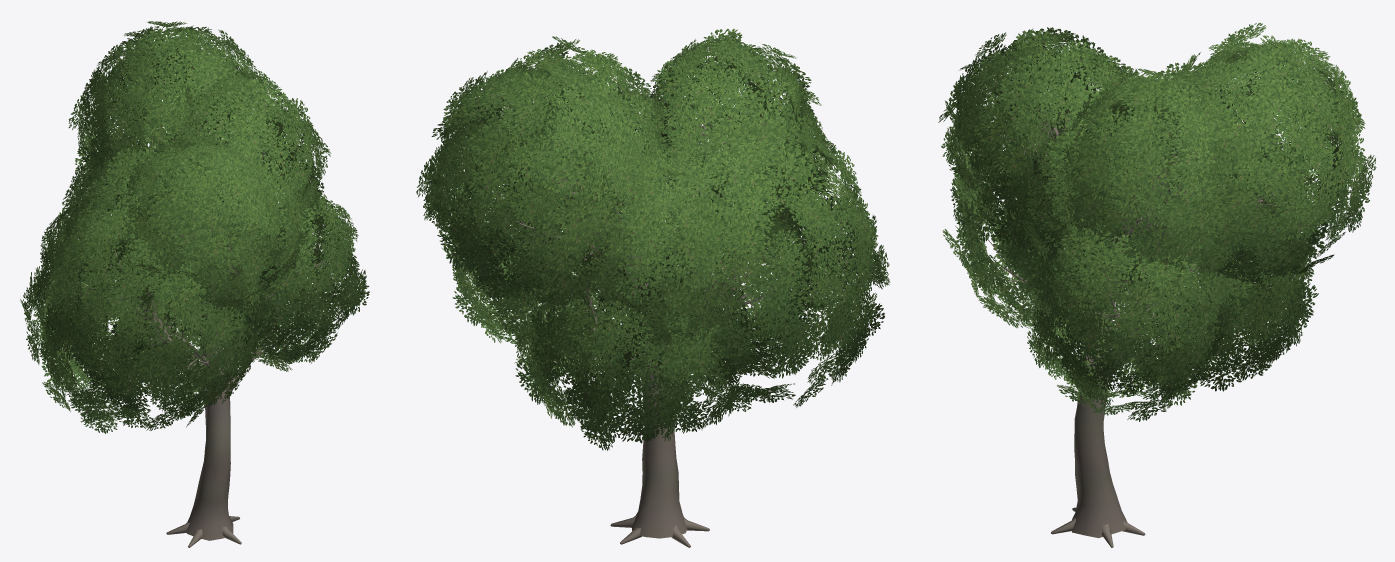
Rendered from eco_tree_forest_tall_a_LOD0.glb.
The picture shows the model from 3 angles, left to right: view 1: azimuth 30°, elevation 25°; view 2: azimuth 150°, elevation 25°; view 3: azimuth 270°, elevation 25°; orthographic projection. The views are drawn at different scales.
Parts seen in each view (by area): view 1: eco_tree_forest_tall_a_LOD0; view 2: eco_tree_forest_tall_a_LOD0; view 3: eco_tree_forest_tall_a_LOD0.
Part boxes in pixels (x1,y1,x2,y2): eco_tree_forest_tall_a_LOD0: (20,21,369,547); eco_tree_forest_tall_a_LOD0: (416,28,890,547); eco_tree_forest_tall_a_LOD0: (938,22,1376,547).
Size of the model in its own units: 6.42 by 7.89 by 6.26.
2 materials, 1 textured.
